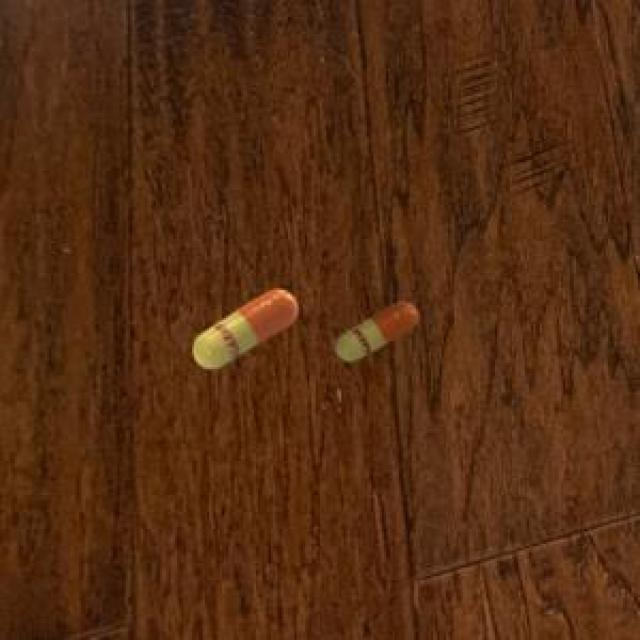Alaxan: (185, 275, 305, 380), (328, 275, 432, 381)
